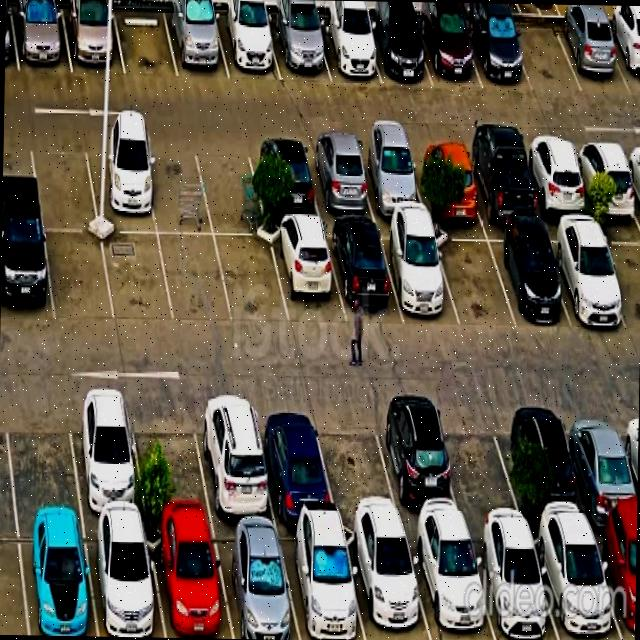empty: (8, 414, 77, 530), (138, 424, 202, 532), (322, 429, 390, 530), (447, 420, 507, 524), (444, 236, 506, 327), (105, 228, 163, 318), (48, 235, 108, 322), (152, 138, 206, 234), (208, 138, 262, 230), (33, 146, 92, 230), (220, 232, 275, 318), (164, 232, 220, 313), (118, 0, 172, 79), (517, 3, 568, 86)
occupied: (196, 427, 266, 537), (383, 418, 449, 528), (72, 426, 140, 532), (18, 536, 90, 636), (154, 534, 222, 638), (225, 536, 292, 640), (546, 538, 614, 640), (357, 540, 425, 640), (292, 535, 355, 640), (268, 430, 326, 542), (422, 538, 485, 640), (91, 537, 154, 637), (514, 412, 570, 522), (564, 230, 622, 336), (572, 421, 632, 523), (488, 537, 547, 640), (90, 134, 152, 226), (393, 228, 451, 326), (506, 229, 562, 329), (420, 131, 474, 230), (478, 138, 532, 237), (275, 228, 334, 318), (339, 222, 392, 322), (252, 138, 312, 225), (583, 140, 634, 238), (531, 142, 583, 238), (364, 138, 415, 224), (372, 1, 423, 84), (171, 0, 222, 82), (0, 233, 48, 319), (314, 139, 364, 221), (425, 1, 473, 84), (475, 2, 521, 86), (326, 0, 372, 83), (223, 0, 272, 77), (562, 4, 612, 79), (275, 0, 323, 78), (67, 0, 115, 69), (16, 0, 61, 69)
